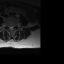CCS_normal: (10, 24, 12, 31)
LFS_stenosis: (14, 23, 15, 27)
LLS_normal: (12, 24, 14, 29)
RFS_normal: (7, 23, 9, 28)
RLS_normal: (9, 24, 10, 29)
